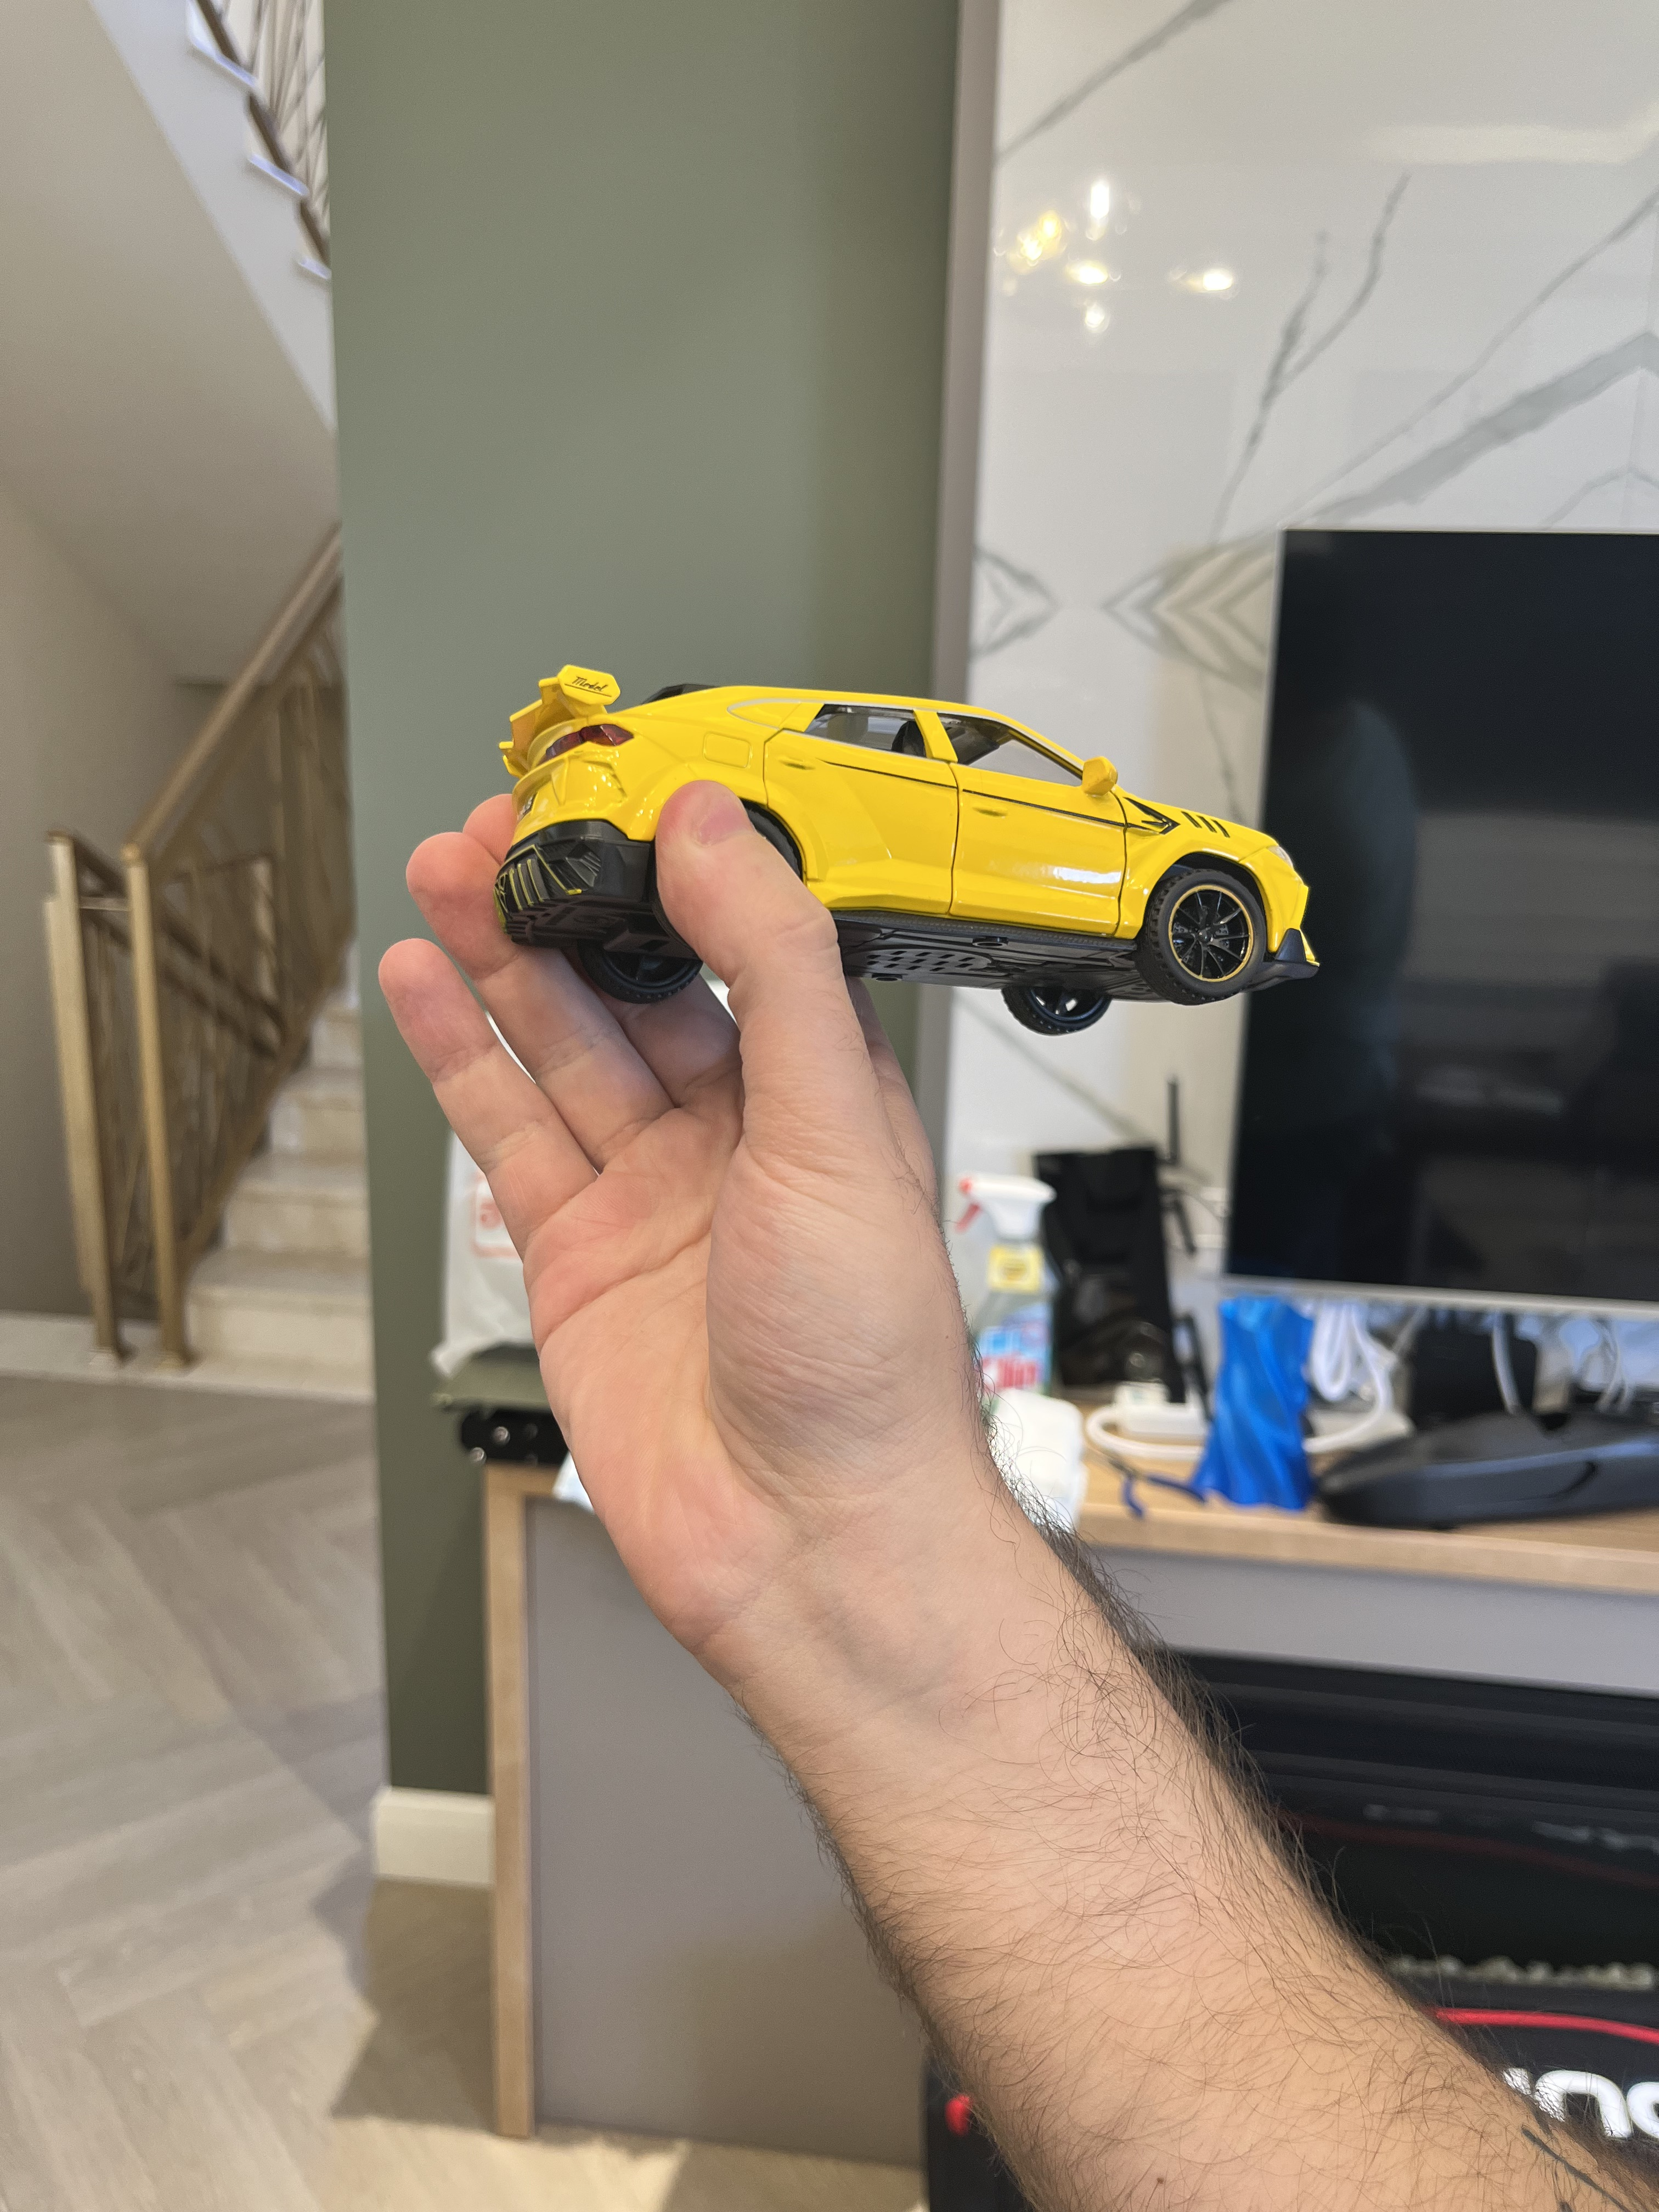lambo: (488, 662, 1317, 1031)
